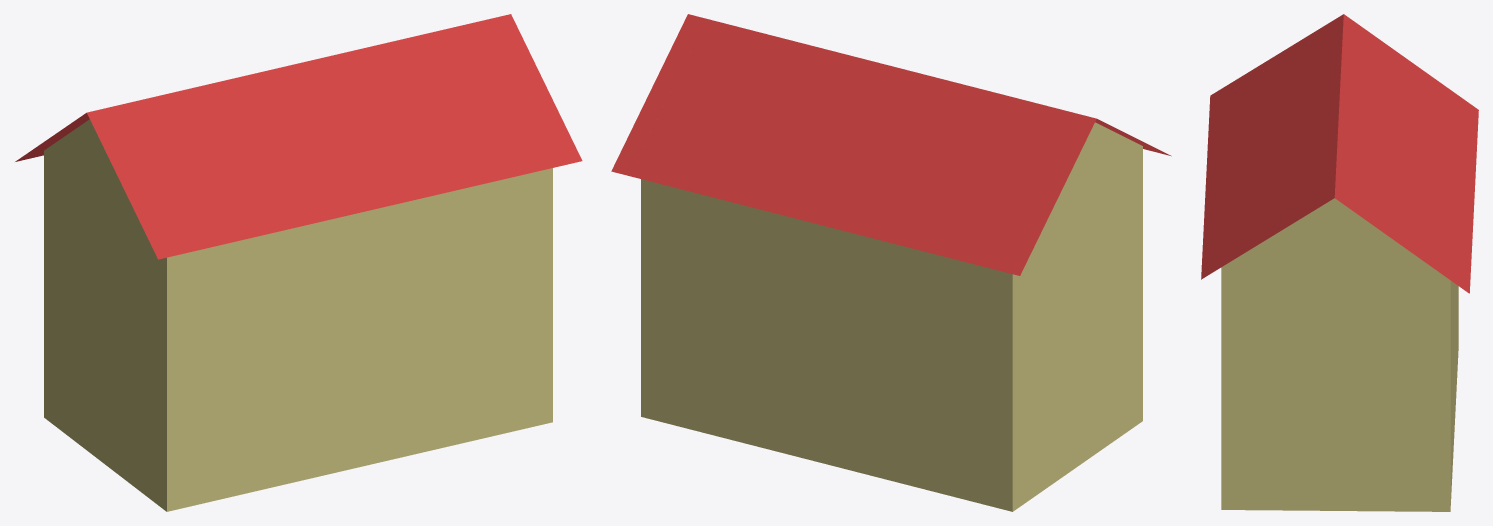
The picture shows the model from 3 angles, left to right: view 1: azimuth 30°, elevation 25°; view 2: azimuth 150°, elevation 25°; view 3: azimuth 270°, elevation 25°; orthographic projection. The views are drawn at different scales.
Size of the model in its own units: 11.21 by 7.06 by 9.
